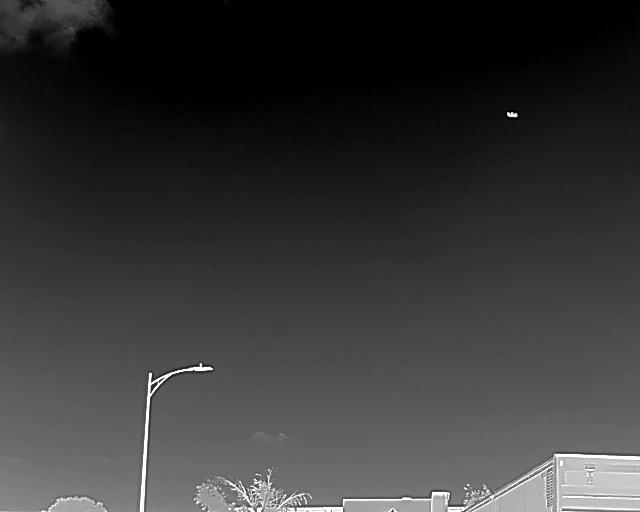fpv-drone: (505, 111, 518, 118)
